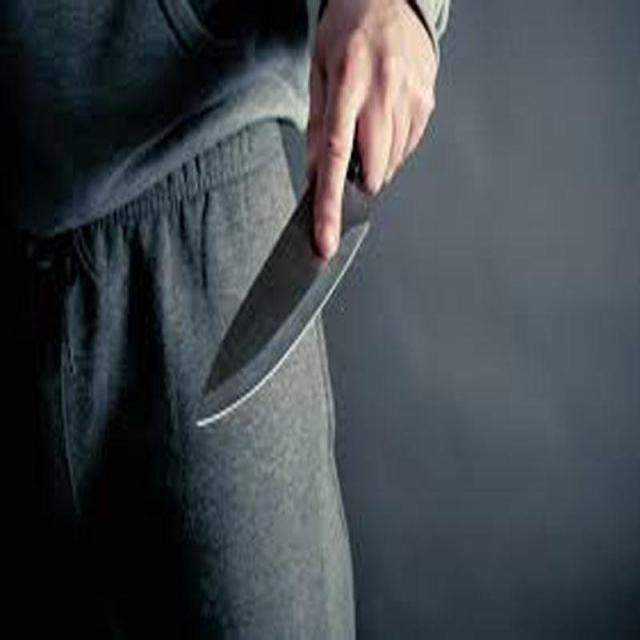Knife: (200, 133, 370, 422)
